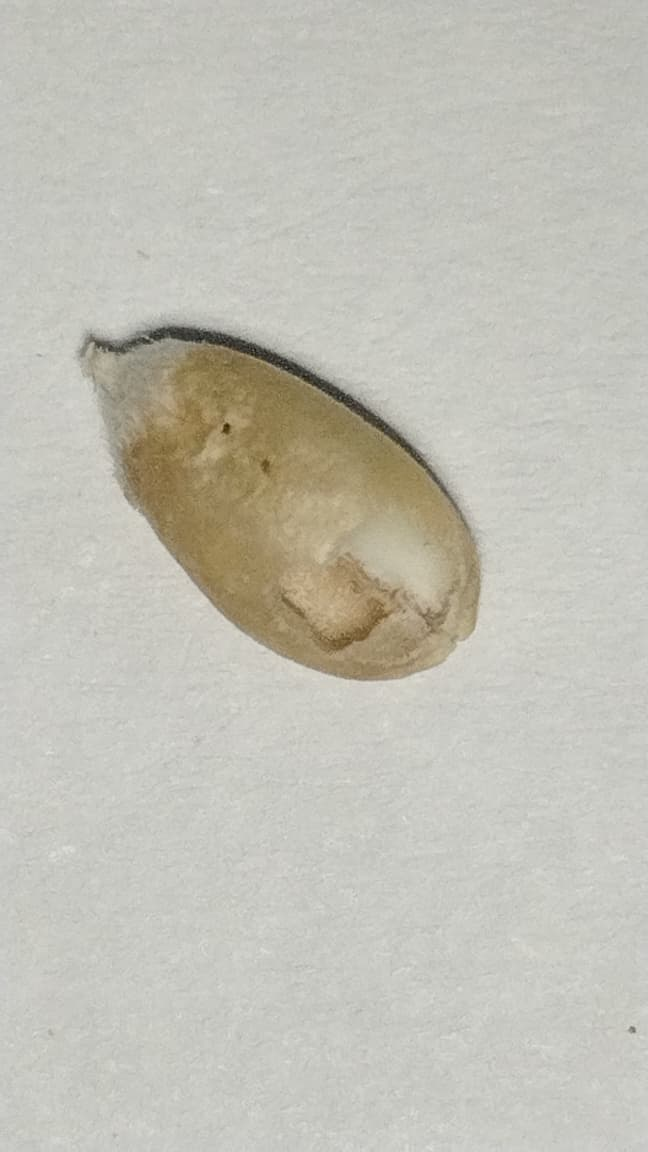damage: (81, 329, 478, 678)
insectdamage: (239, 510, 457, 674)
